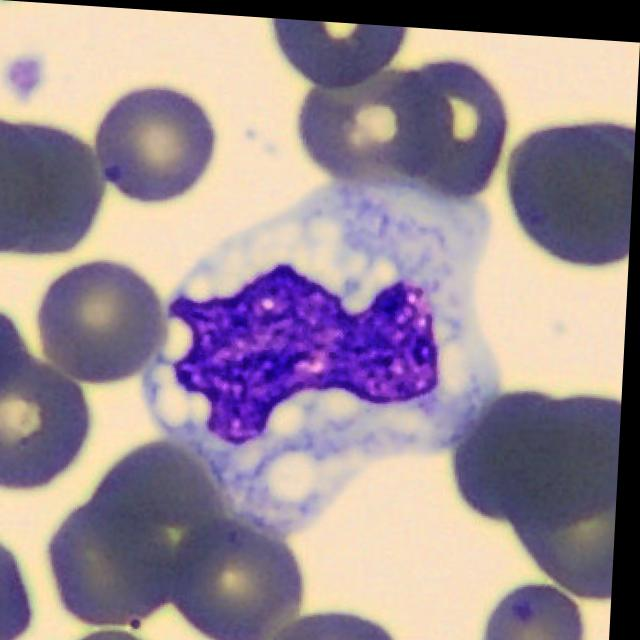Monocito: (147, 169, 506, 531)
